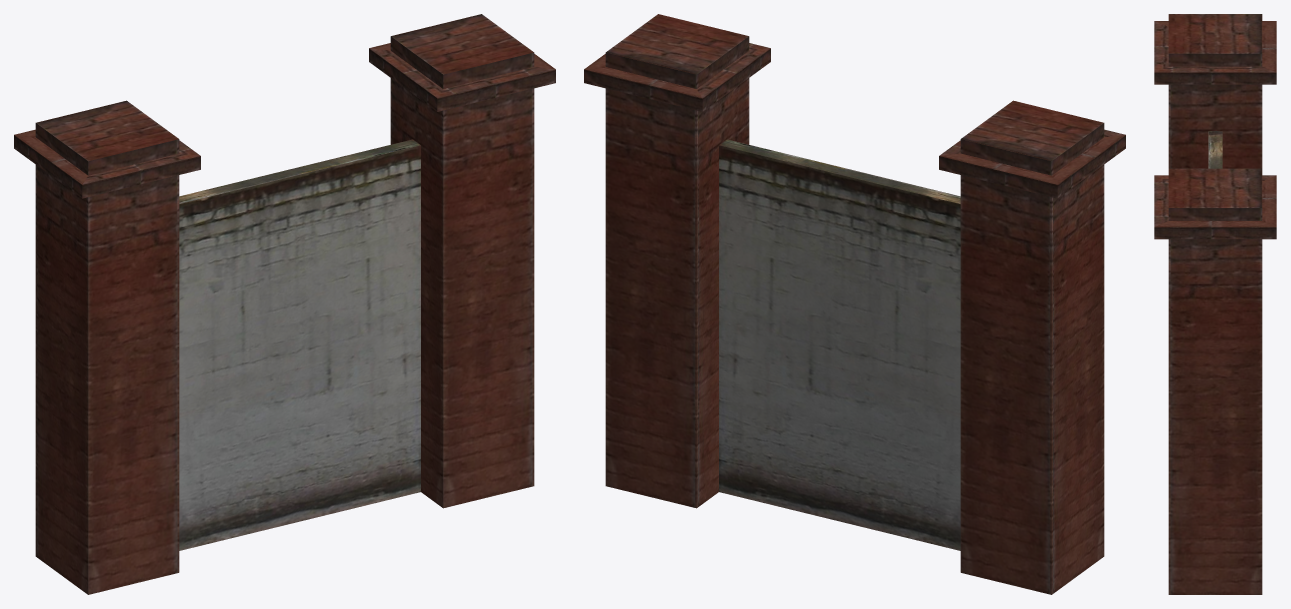
The model's file is BrickFence.fbx.
3 views of the same model, side by side, from view 1: azimuth 30°, elevation 25°; view 2: azimuth 150°, elevation 25°; view 3: azimuth 270°, elevation 25° (orthographic). The views are drawn at different scales.
Visible parts, largest first — view 1: brickFence.002, brickFence.001, brickFence.003; view 2: brickFence.002, brickFence.001, brickFence.003; view 3: brickFence.003, brickFence.001, brickFence.002.
Part boxes in pixels (bbox=[...]): brickFence.002: bbox=[179, 139, 420, 550]; brickFence.001: bbox=[14, 100, 200, 594]; brickFence.003: bbox=[369, 14, 555, 508]; brickFence.002: bbox=[719, 139, 960, 550]; brickFence.001: bbox=[939, 100, 1125, 594]; brickFence.003: bbox=[584, 14, 770, 508]; brickFence.003: bbox=[1154, 168, 1276, 594]; brickFence.001: bbox=[1154, 14, 1276, 168]; brickFence.002: bbox=[1208, 131, 1222, 168].
Size of the model in its own units: 343 by 300 by 85.86.
1 material, 1 textured.
